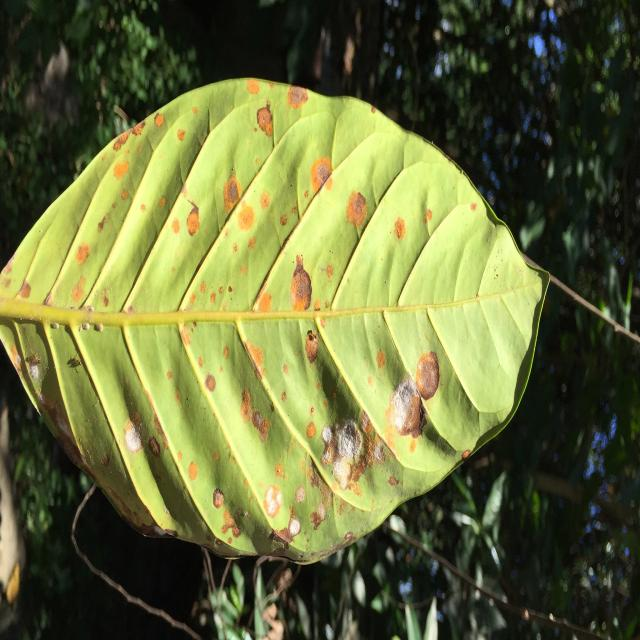Enfermedad-Mancha-de-hierro: (0, 79, 546, 567)
